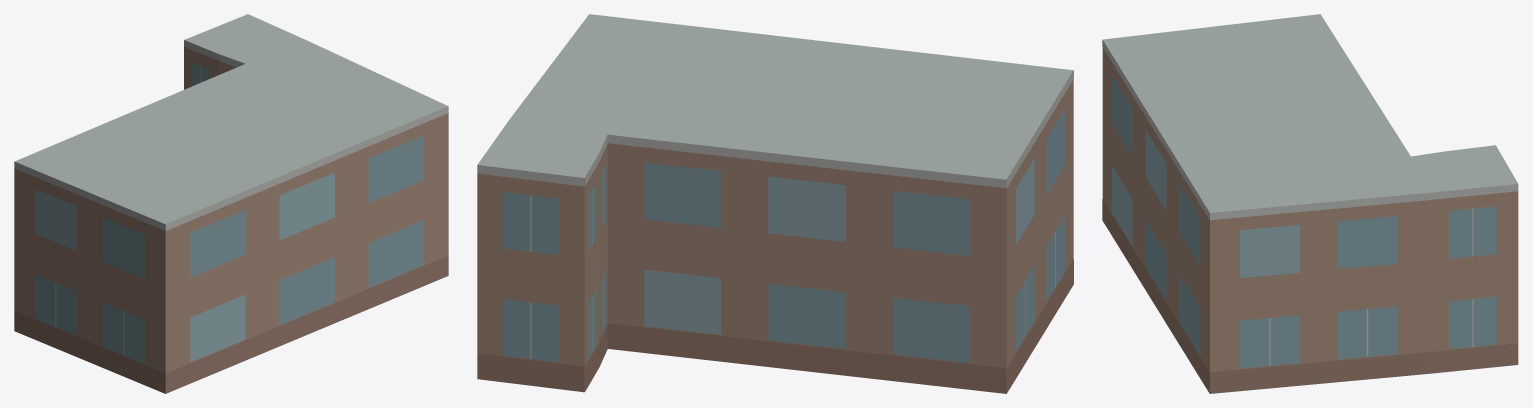
The model's file is survey-upis-32644177.glb.
3 renders of one model, left to right at view 1: azimuth 30°, elevation 25°; view 2: azimuth 150°, elevation 25°; view 3: azimuth 270°, elevation 25°, orthographic. The views are drawn at different scales.
Parts seen in each view (by area): view 1: survey-upis-32644177.tmp; view 2: survey-upis-32644177.tmp; view 3: survey-upis-32644177.tmp.
Boxes of the visible parts, x1,y1,x2,y2 form: survey-upis-32644177.tmp: (14, 14, 448, 393); survey-upis-32644177.tmp: (477, 14, 1073, 393); survey-upis-32644177.tmp: (1102, 14, 1518, 393).
Size of the model in its own units: 14.4 by 6.1 by 12.72.
